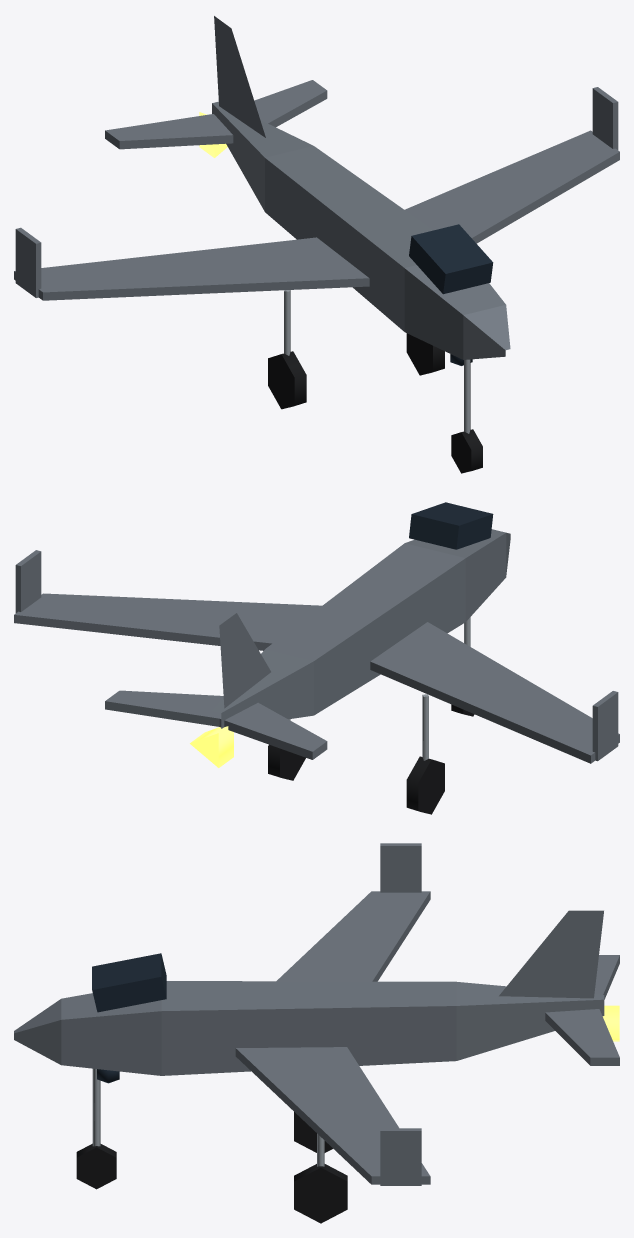
File: veh_air_fighter_a08_lod2.glb
3 views of the same model, one above another, from view 1: azimuth 30°, elevation 25°; view 2: azimuth 150°, elevation 25°; view 3: azimuth 270°, elevation 25° (orthographic).
Visible parts, largest first — view 1: body, gear_1, gear_0, gear_2; view 2: body, gear_1, gear_2; view 3: body, gear_2, gear_0, gear_1.
Part boxes in pixels (x1,y1,x2,y2): body: [14, 16, 619, 365]; gear_1: [268, 290, 306, 409]; gear_0: [451, 359, 482, 473]; gear_2: [406, 333, 444, 375]; body: [14, 502, 619, 767]; gear_1: [406, 694, 444, 814]; gear_2: [268, 719, 305, 780]; body: [14, 843, 619, 1185]; gear_2: [294, 1133, 347, 1223]; gear_0: [76, 1068, 116, 1189]; gear_1: [294, 1112, 332, 1152].
Size of the model in its own units: 8.8 by 3.95 by 7.83.
